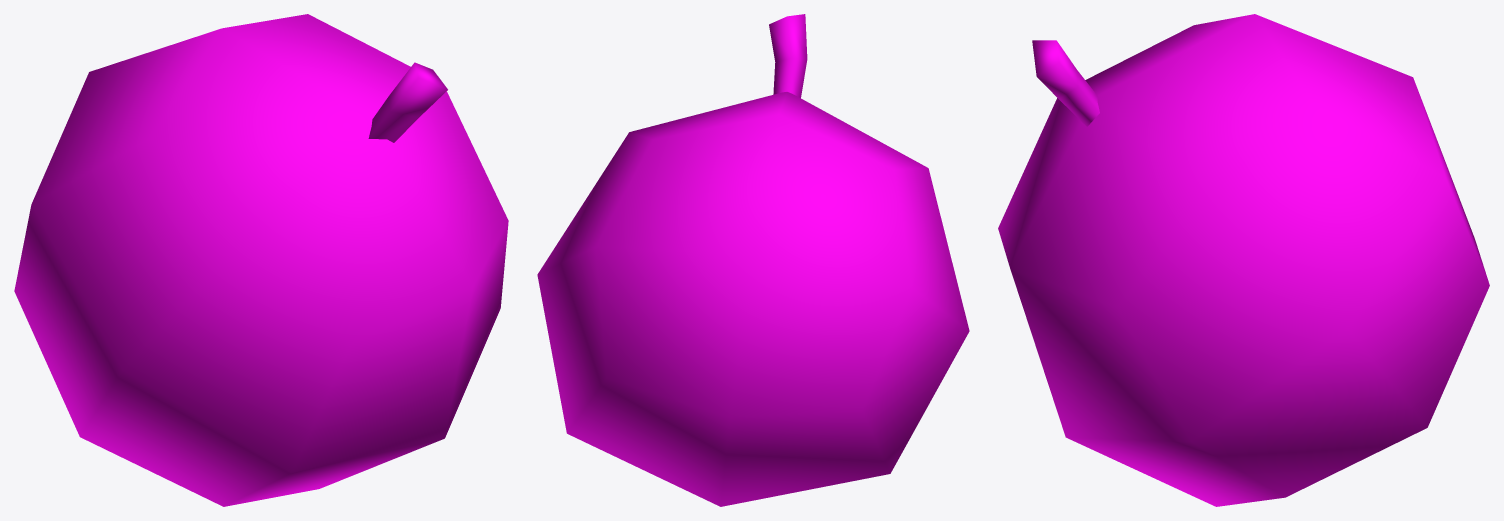
Rendered from orange_meshCollider.fbx.
3 renders of one model, left to right at view 1: azimuth 30°, elevation 25°; view 2: azimuth 150°, elevation 25°; view 3: azimuth 270°, elevation 25°, orthographic. The views are drawn at different scales.
Visible parts, largest first — view 1: foods_orange_meshCollider; view 2: foods_orange_meshCollider; view 3: foods_orange_meshCollider.
Part boxes in pixels (x1,y1,x2,y2): foods_orange_meshCollider: [14, 14, 508, 506]; foods_orange_meshCollider: [537, 14, 969, 506]; foods_orange_meshCollider: [998, 14, 1489, 506].
Size of the model in its own units: 7.95 by 8.75 by 8.24.
